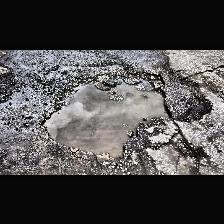pothole: (39, 70, 173, 160)
